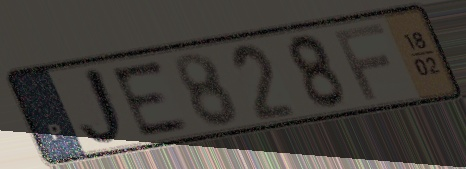2: (229, 39, 303, 122)
8: (174, 50, 241, 129), (289, 31, 350, 111)
E: (106, 57, 194, 140)
F: (329, 20, 393, 102)
J: (76, 64, 133, 149)
